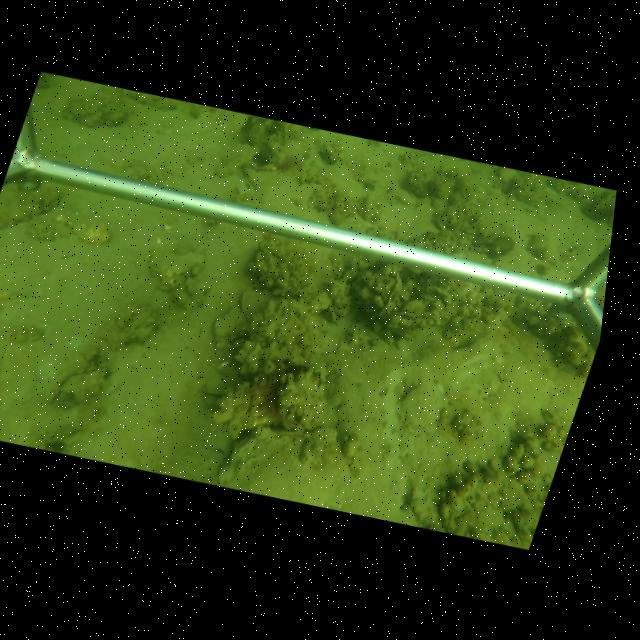Oyster-Closed: (218, 427, 313, 490), (143, 236, 206, 287), (46, 364, 108, 409), (0, 189, 64, 228), (325, 294, 339, 323)
Oyster-Indeterminate: (238, 288, 291, 326), (210, 304, 248, 349)
